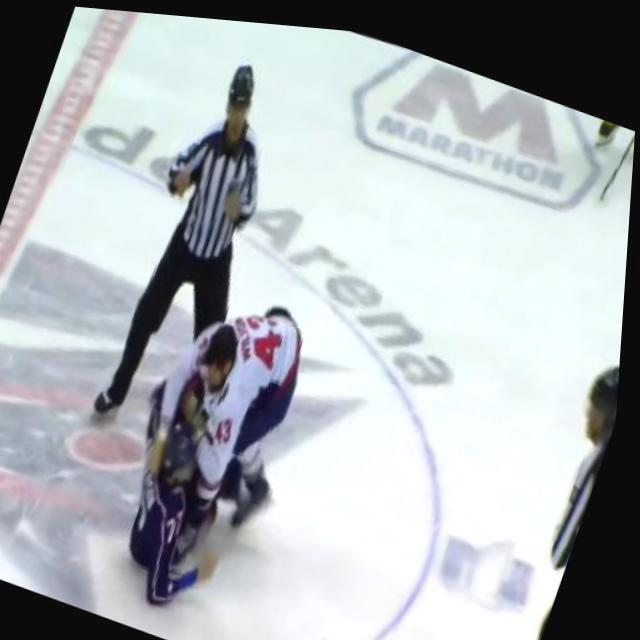fight: (86, 257, 350, 637)
